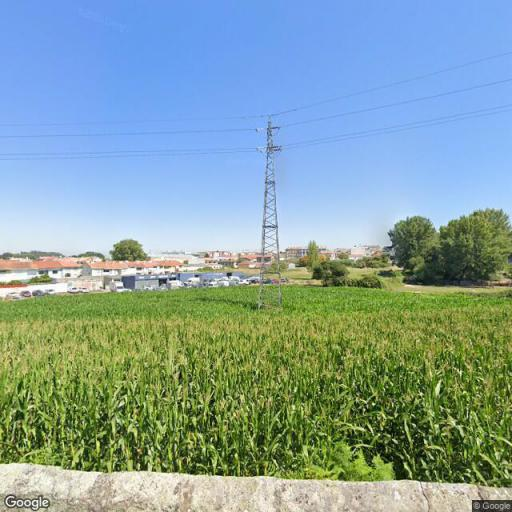ss_2: (255, 115, 285, 314)
